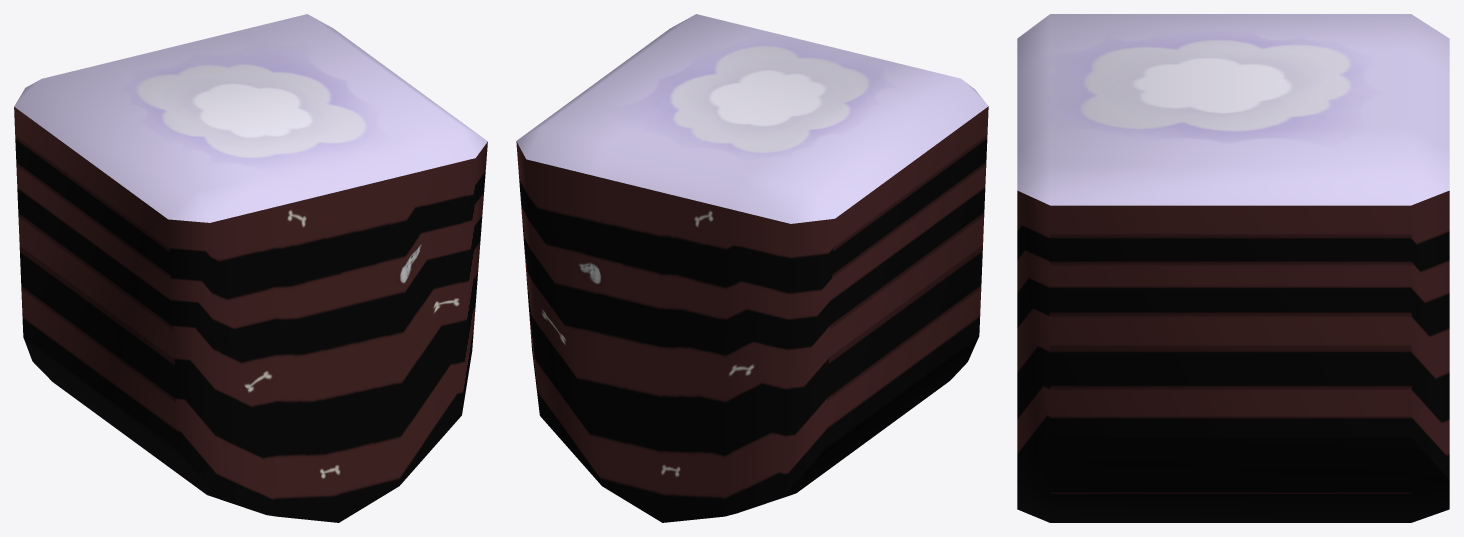
The model's file is rd_a11c_blue.obj.
3 renders of one model, left to right at view 1: azimuth 30°, elevation 25°; view 2: azimuth 150°, elevation 25°; view 3: azimuth 270°, elevation 25°, orthographic. The views are drawn at different scales.
Visible parts, largest first — view 1: polySurface13; view 2: polySurface13; view 3: polySurface13.
Part boxes in pixels (<box>): polySurface13: <box>14,14,487,522</box>; polySurface13: <box>516,14,988,522</box>; polySurface13: <box>1017,14,1449,522</box>.
Bounding box in the file's own units: 100 × 108 × 100.
